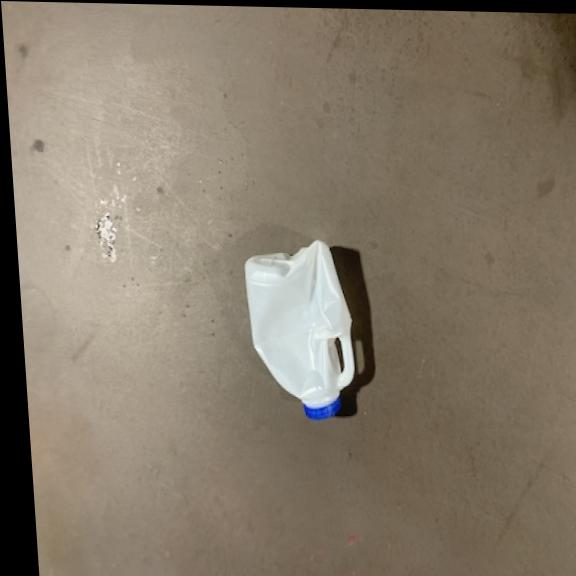Plastik: (239, 232, 363, 424)
